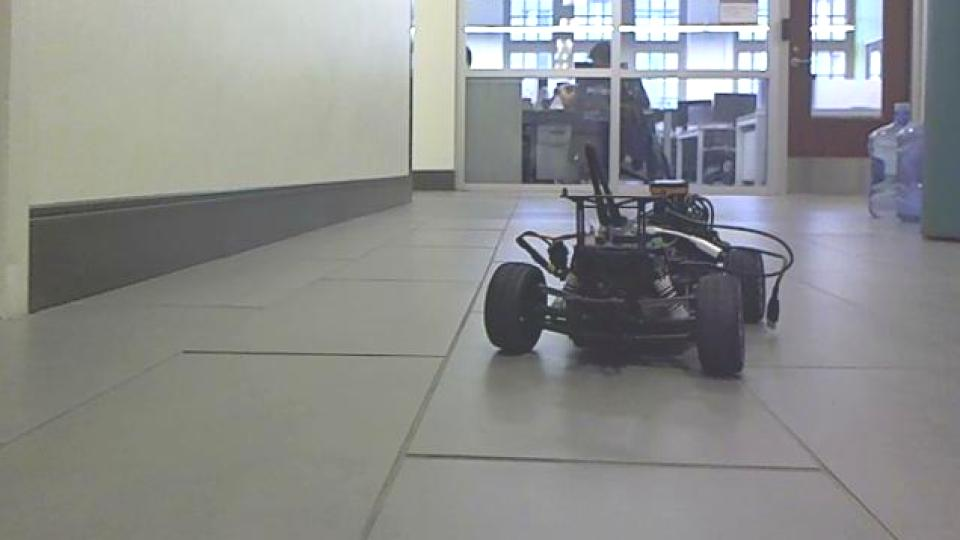car: (481, 142, 797, 380)
